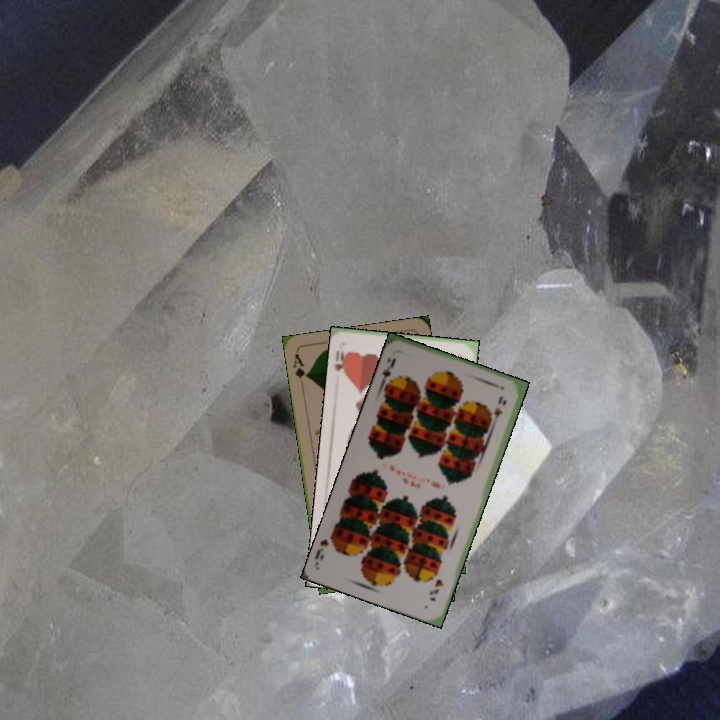GA: (289, 349, 311, 390)
HO: (330, 346, 352, 379)
S9: (376, 354, 398, 390), (426, 575, 446, 604)
